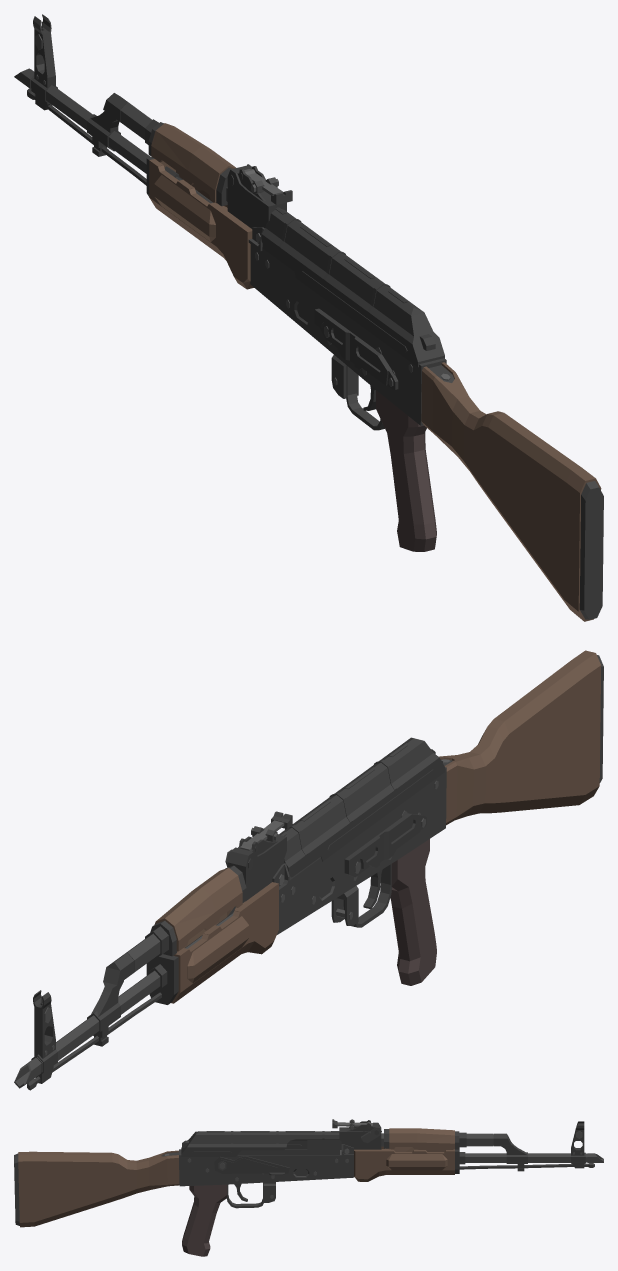
The model's file is ak47_cuerpo.glb.
3 views of the same model, one above another, from view 1: azimuth 30°, elevation 25°; view 2: azimuth 150°, elevation 25°; view 3: azimuth 270°, elevation 25° (orthographic). The views are drawn at different scales.
Parts seen in each view (by area): view 1: ak47_cuerpo; view 2: ak47_cuerpo; view 3: ak47_cuerpo.
Part boxes in pixels (x1,y1,x2,y2): ak47_cuerpo: (14, 14, 603, 621); ak47_cuerpo: (14, 650, 603, 1090); ak47_cuerpo: (14, 1119, 603, 1256).
Bounding box in the file's own units: 0.0369 × 0.22 × 0.88.
